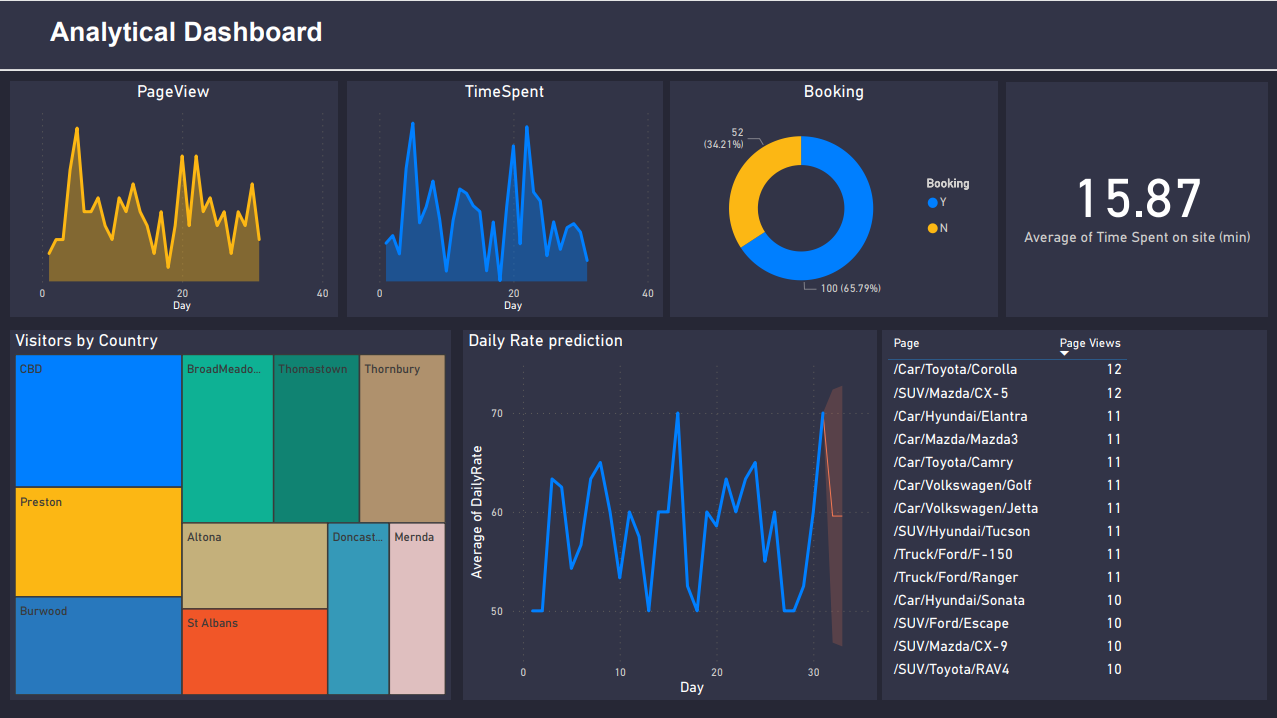

The dashboard page shown, as its layout file describes it:
{"tool":"powerbi","page":{"name":"analytical","canvas":[1280,720],"ordinal":2},"visuals":[{"type":"shape","box":[0,0,1279.6,69.9],"z":0},{"type":"textbox","box":[46.6,12.3,344.1,43.9],"z":1000},{"type":"treemap","title":"Visitors by Country","fields":{"Group":["Website Traffic.VisitorLocation"],"Values":["CountNonNull(Website Traffic.VisitorLocation)"]},"box":[12.3,330.4,440.1,368.8],"z":2000},{"type":"card","fields":{"Values":["Avg(Website Traffic.TimeSpent(min))"]},"box":[1008.2,82,260.5,234],"z":3000},{"type":"areaChart","title":"PageView","fields":{"Category":["Website Traffic.Date.Variation.Date Hierarchy.Day"],"Y":["CountNonNull(Website Traffic.VisitorLocation)"]},"box":[12.1,80.8,326.8,235.2],"z":4000},{"type":"areaChart","title":"TimeSpent","fields":{"Y":["Sum(Website Traffic.TimeSpent(min))"],"Category":["Website Traffic.Date.Variation.Date Hierarchy.Day"]},"box":[348.5,80.8,314.8,235.2],"z":5000},{"type":"donutChart","title":"Booking","fields":{"Category":["Website Traffic.BookingMade"],"Y":["CountNonNull(Website Traffic.VisitorLocation)"]},"box":[671.8,80.8,326.8,235.2],"z":6000},{"type":"tableEx","fields":{"Values":["Website Traffic.VehiclePage","CountNonNull(Website Traffic.VehiclePage)"]},"box":[884.3,330.4,383.9,368.8],"z":7000},{"type":"lineChart","title":"Daily Rate prediction","fields":{"Y":["Avg(Table 2 (CarHire).DailyRate)"],"Category":["Table 2 (CarHire).Date.Variation.Date Hierarchy.Day"]},"box":[464.8,330.4,412.7,368.8],"z":8000}]}

Visuals, with their boxes in screenshot pixels (x1, y1, x2, y2), scaled from the page's 1280x720 canvas onto the 1277x718 screenshot:
shape: Rect(0, 0, 1276, 70)
textbox: Rect(46, 12, 390, 56)
"Visitors by Country" treemap: Rect(12, 329, 451, 697)
card - Avg(Website Traffic.TimeSpent(min)): Rect(1006, 82, 1266, 315)
"PageView" areaChart: Rect(12, 81, 338, 315)
"TimeSpent" areaChart: Rect(348, 81, 662, 315)
"Booking" donutChart: Rect(670, 81, 996, 315)
tableEx - Website Traffic.VehiclePage x CountNonNull(Website Traffic.VehiclePage): Rect(882, 329, 1265, 697)
"Daily Rate prediction" lineChart: Rect(464, 329, 875, 697)
